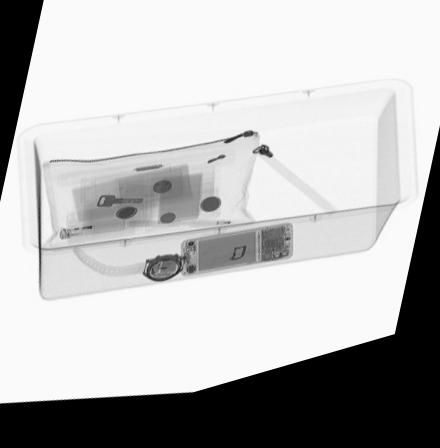Lighter: (60, 225, 125, 243)
